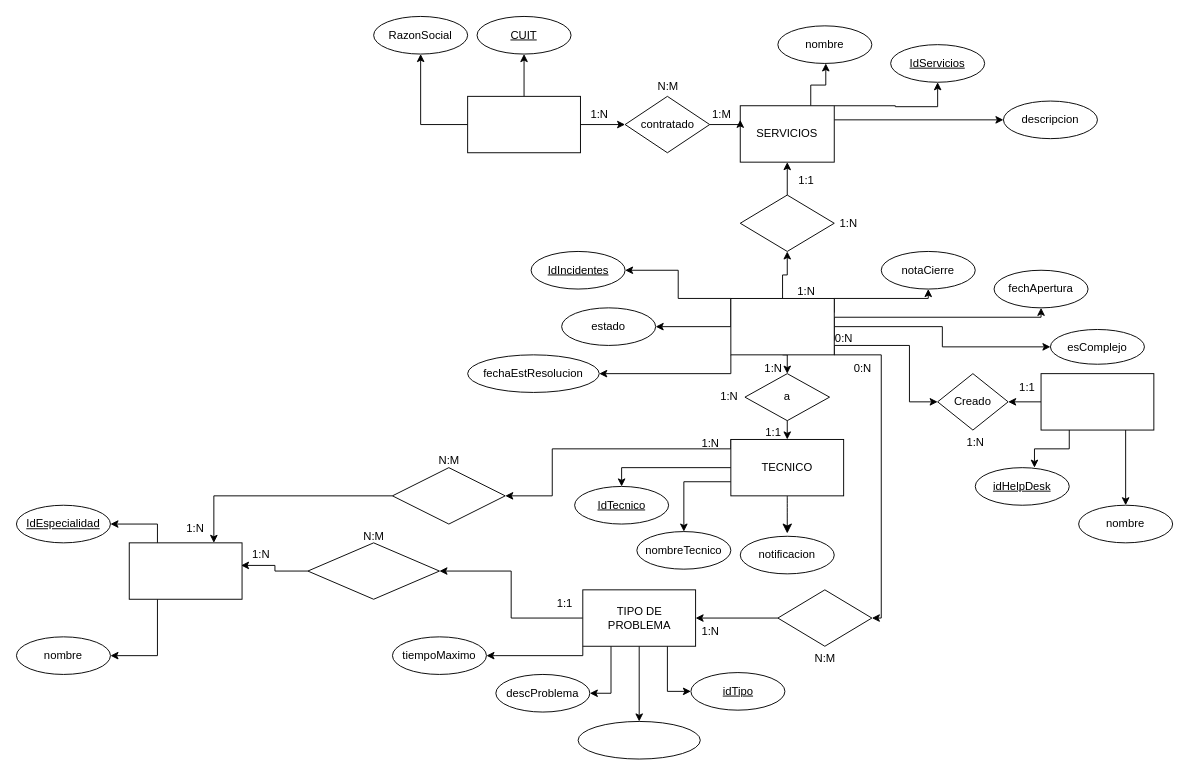
This 1189x776 diagram has some shape labels left out. Here are the shapes that lost their labels. From the top down, the box of each, then its label:
(467, 95, 580, 153): CLIENTES
(739, 194, 834, 251): es de
(730, 298, 834, 355): INCIDENTES
(1040, 373, 1154, 430): HELP_DESK
(392, 467, 505, 524): posee
(128, 542, 242, 599): ESPECIALIDAD
(307, 542, 439, 599): tiene
(777, 589, 872, 646): formado por
(577, 721, 700, 759): tiempoEstResolucion
